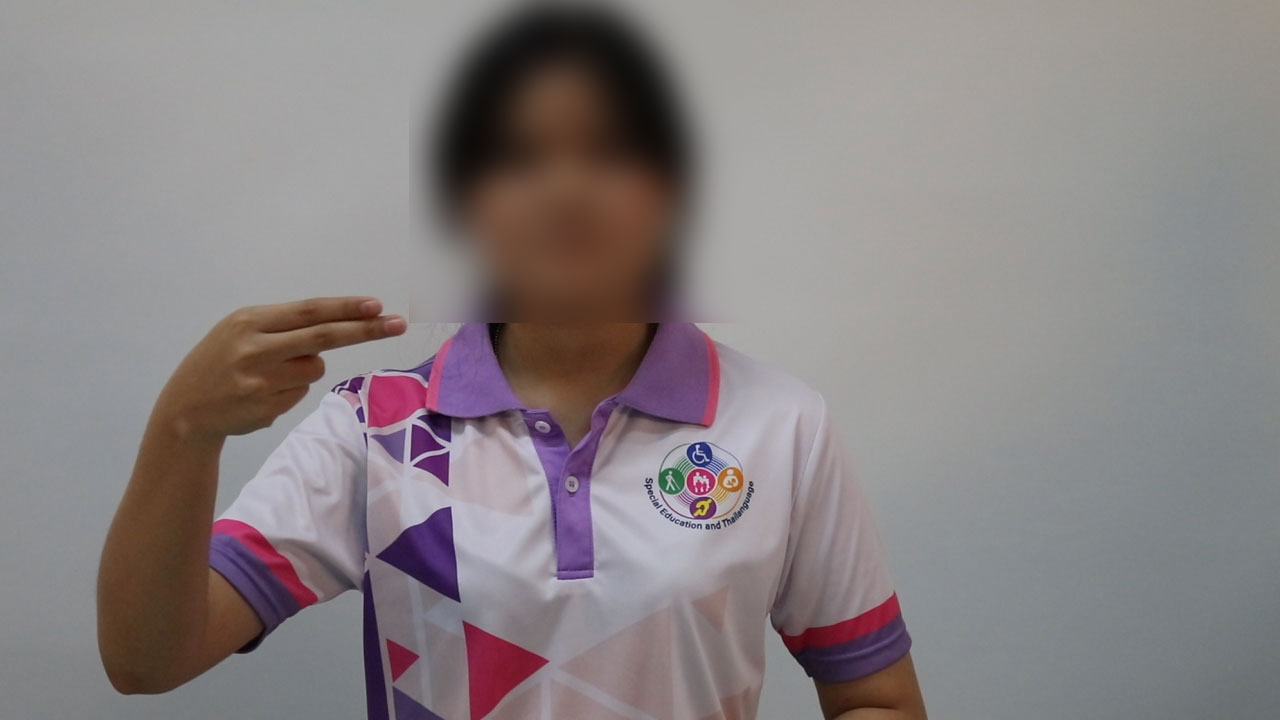hor: (163, 280, 423, 447)
